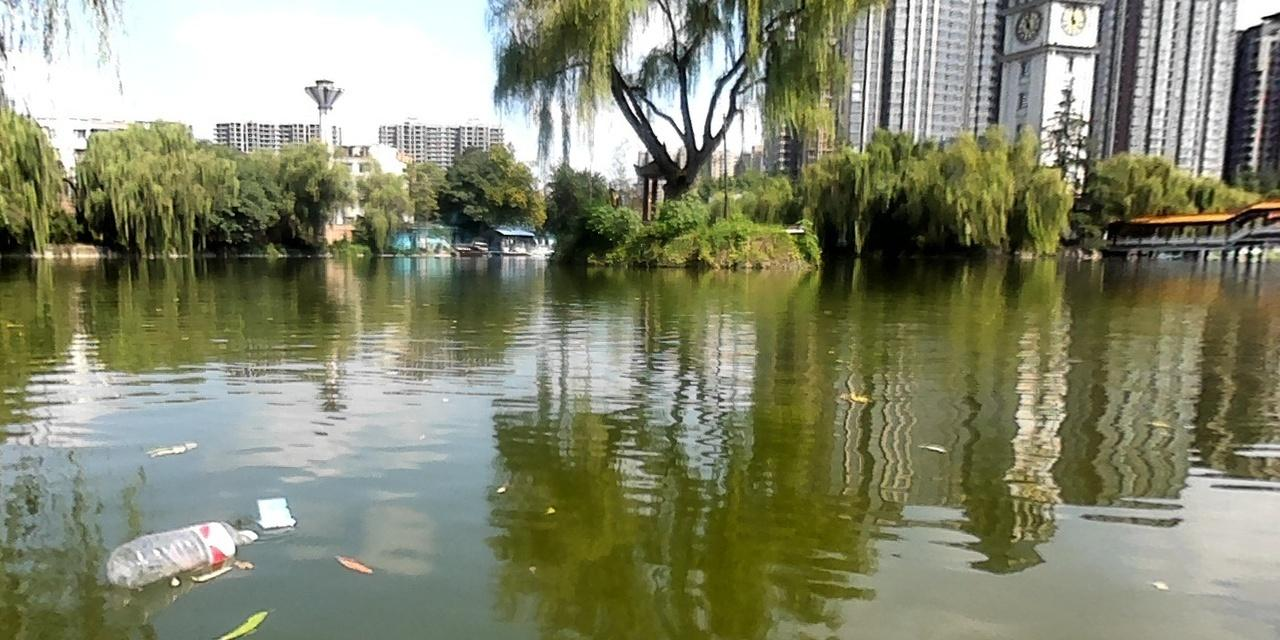bottle: (104, 517, 260, 586), (255, 494, 297, 530)
